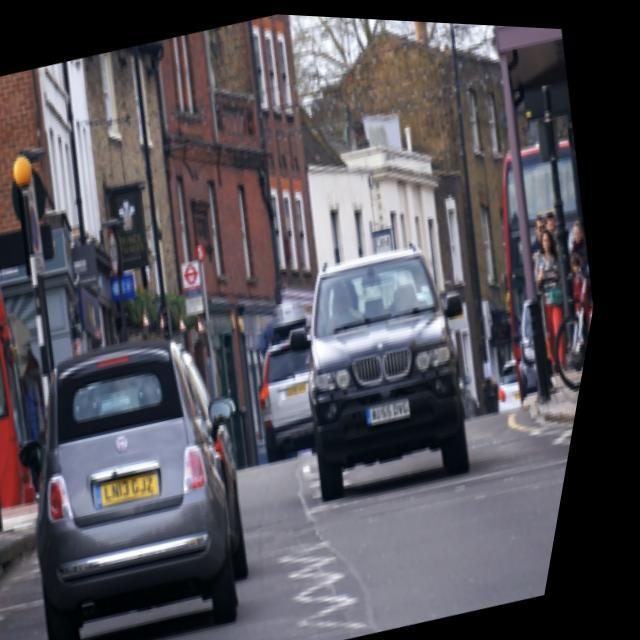license_plate: (104, 460, 180, 511), (372, 384, 429, 421)
